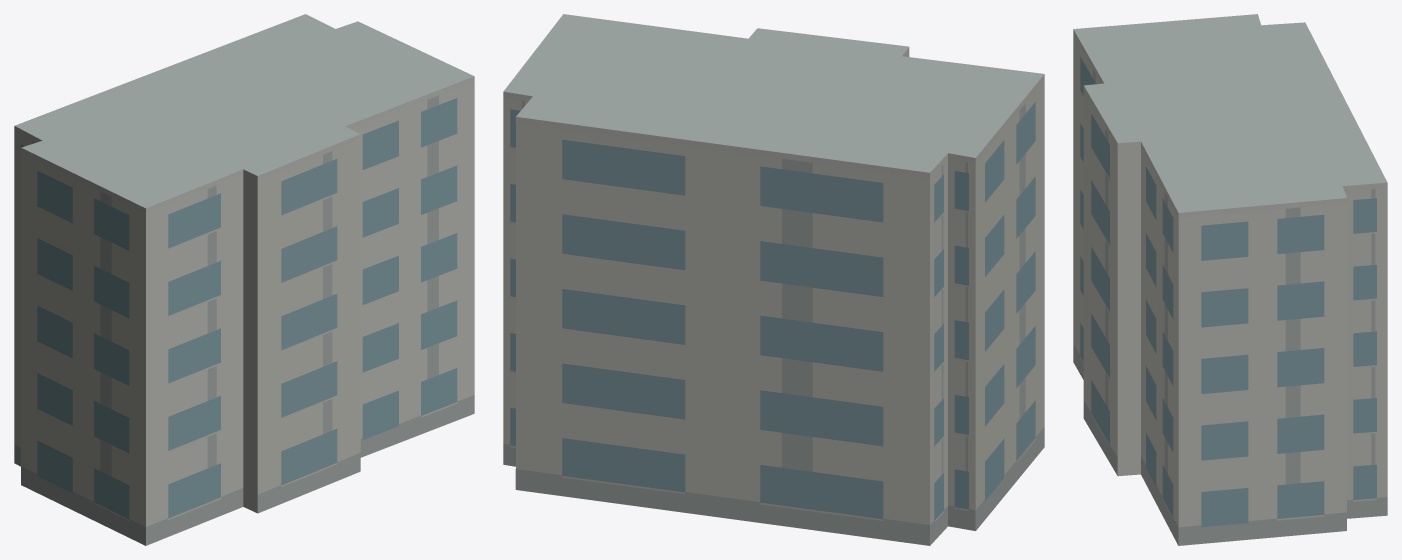
Rendered from survey-upis-32802821.glb.
3 views of the same model, side by side, from view 1: azimuth 30°, elevation 25°; view 2: azimuth 150°, elevation 25°; view 3: azimuth 270°, elevation 25° (orthographic). The views are drawn at different scales.
Visible parts, largest first — view 1: survey-upis-32802821.tmp; view 2: survey-upis-32802821.tmp; view 3: survey-upis-32802821.tmp.
Part boxes in pixels (<box>): survey-upis-32802821.tmp: <box>14,14,474,545</box>; survey-upis-32802821.tmp: <box>503,14,1044,545</box>; survey-upis-32802821.tmp: <box>1073,14,1387,545</box>.
Bounding box in the file's own units: 19.55 × 15.25 × 13.06.
